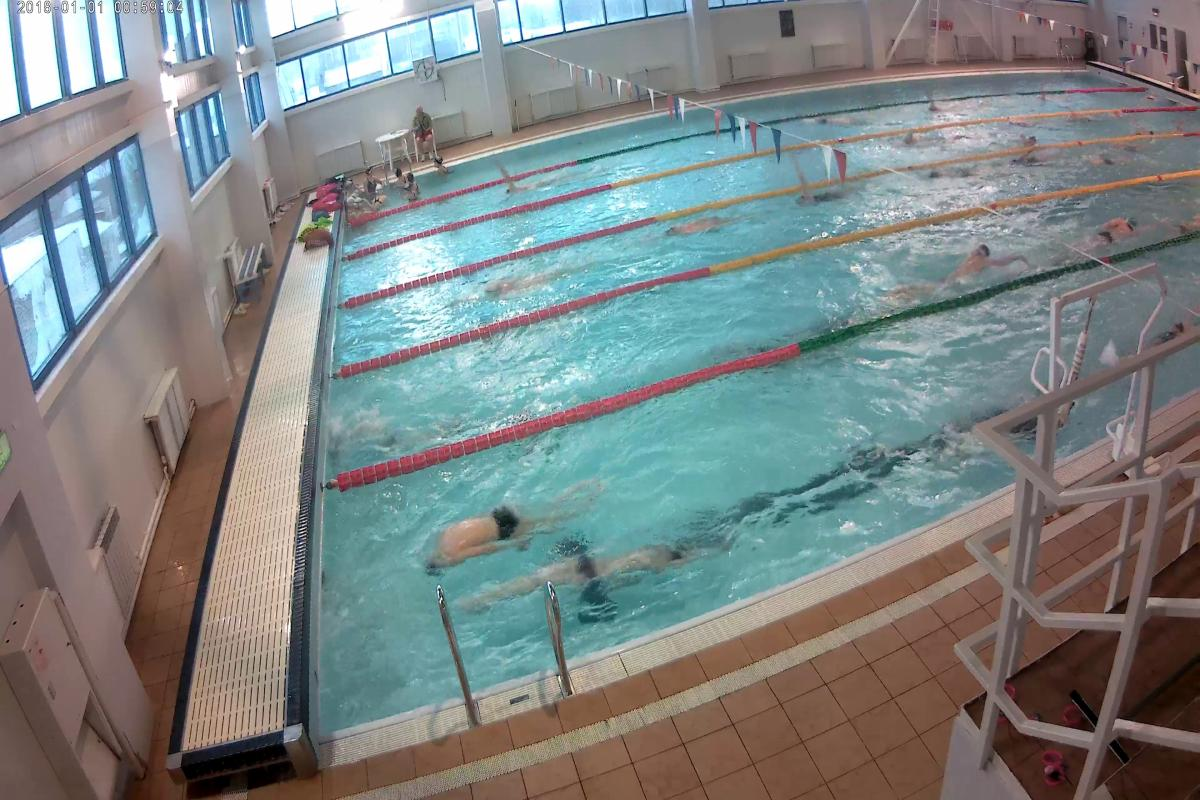swimmer: (468, 543, 688, 599), (413, 510, 599, 560), (883, 252, 1000, 297), (479, 255, 583, 295), (921, 409, 1000, 461), (1054, 219, 1152, 258), (656, 211, 740, 240), (343, 400, 471, 416), (785, 186, 848, 212), (993, 154, 1050, 176), (920, 168, 967, 192)
